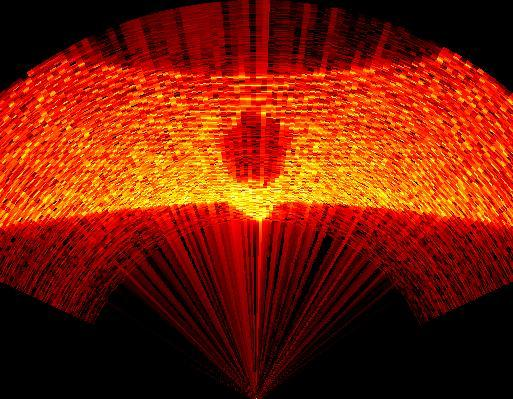box_crate: (216, 108, 302, 195)
